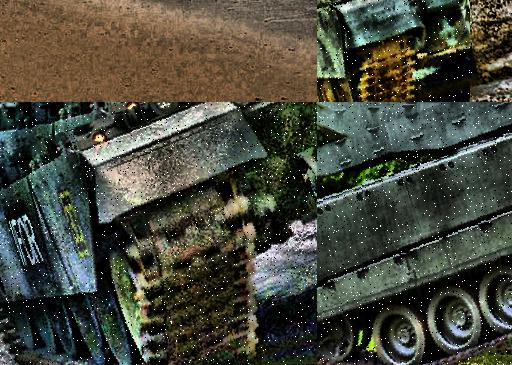tanks: (1, 103, 318, 365), (318, 103, 512, 365), (318, 1, 473, 103)
